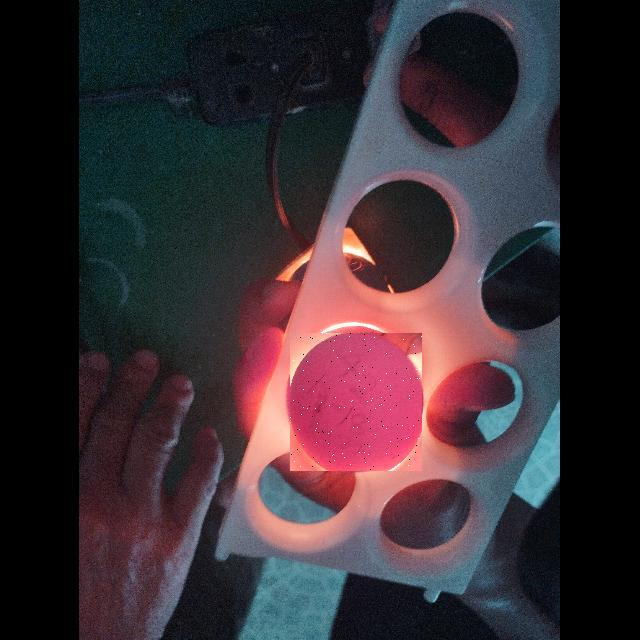Infertile: (290, 333, 422, 471)
